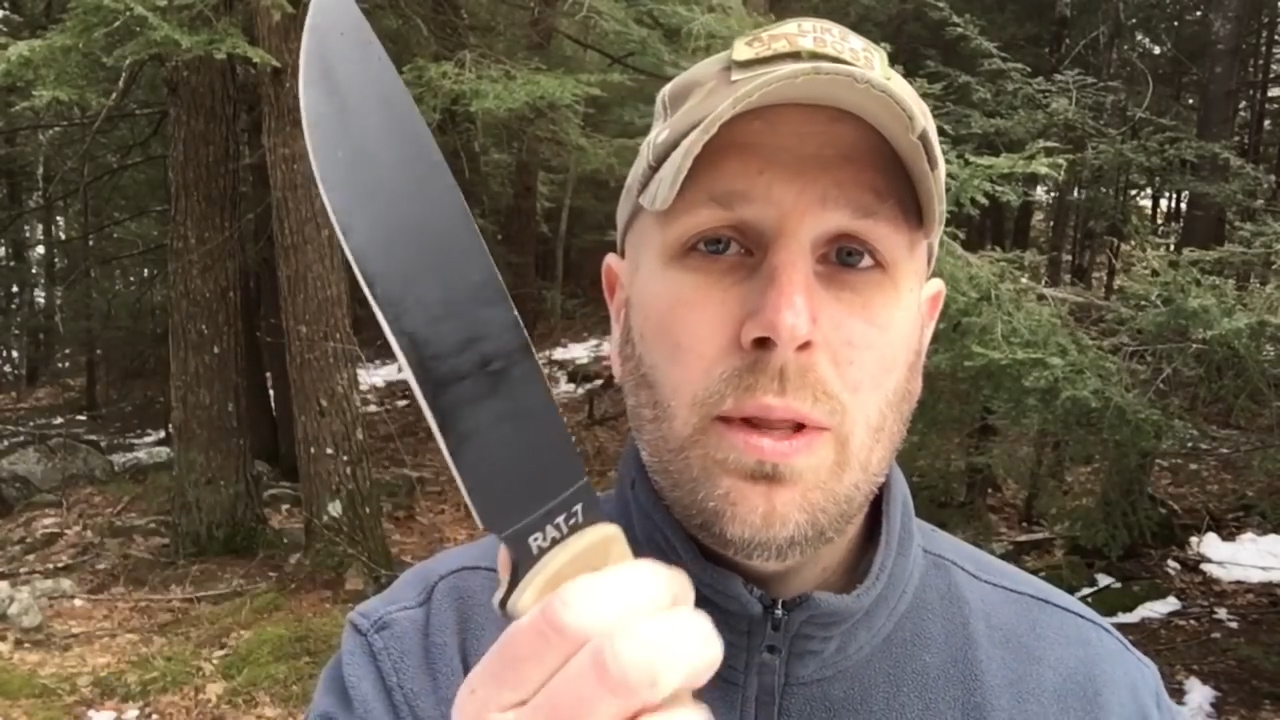knife: (285, 1, 697, 670)
